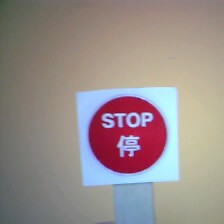stop: (73, 88, 178, 182)
